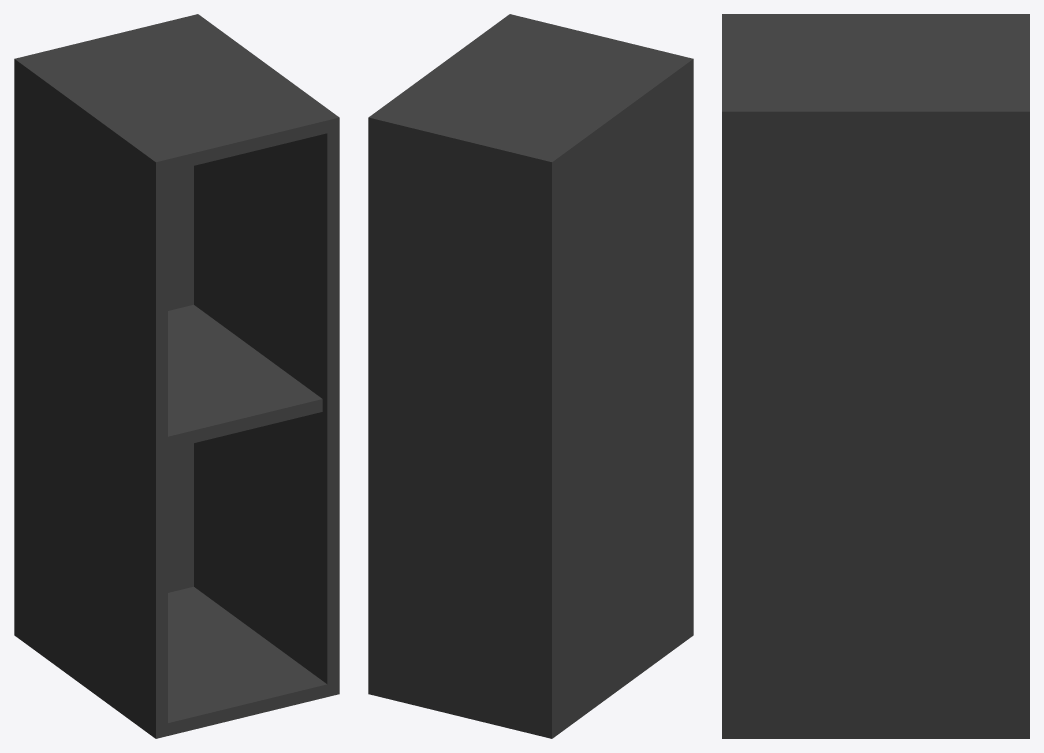
File: Kitchen1_C3_10.fbx
3 views of the same model, side by side, from view 1: azimuth 30°, elevation 25°; view 2: azimuth 150°, elevation 25°; view 3: azimuth 270°, elevation 25° (orthographic). The views are drawn at different scales.
Visible parts, largest first — view 1: Kitchen1_C3_10; view 2: Kitchen1_C3_10; view 3: Kitchen1_C3_10.
Boxes of the visible parts, <box> form: Kitchen1_C3_10: <box>14,14,339,738</box>; Kitchen1_C3_10: <box>368,14,693,738</box>; Kitchen1_C3_10: <box>722,14,1029,738</box>.
Bounding box in the file's own units: 30 × 90 × 40.
